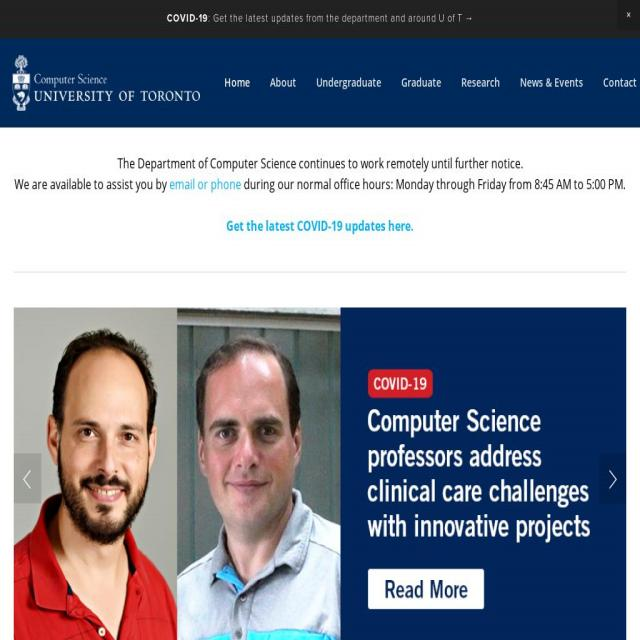button: (369, 570, 484, 610)
